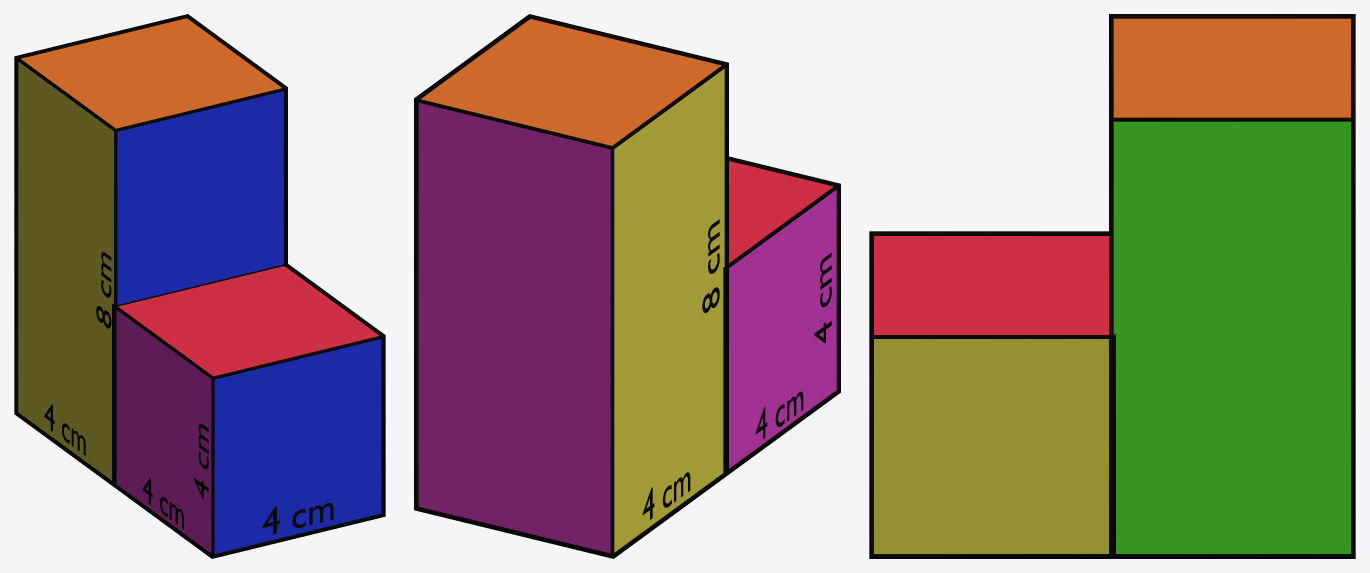
The model's file is prisma_baseCuadrada1.glb.
3 renders of one model, left to right at view 1: azimuth 30°, elevation 25°; view 2: azimuth 150°, elevation 25°; view 3: azimuth 270°, elevation 25°, orthographic. The views are drawn at different scales.
Parts seen in each view (by area): view 1: prisma_baseCuadrada1, cubo1, Texto; view 2: prisma_baseCuadrada1, cubo1, Texto.005; view 3: prisma_baseCuadrada1, cubo1.
Part boxes in pixels (x1,y1,x2,y2): prisma_baseCuadrada1: (14, 14, 287, 487); cubo1: (112, 264, 385, 558); Texto: (262, 503, 333, 534); prisma_baseCuadrada1: (414, 14, 728, 558); cubo1: (723, 156, 840, 475); Texto.005: (702, 219, 719, 312); prisma_baseCuadrada1: (1109, 14, 1355, 558); cubo1: (869, 231, 1115, 558).
Size of the model in its own units: 0.0412 by 0.0812 by 0.0812.
